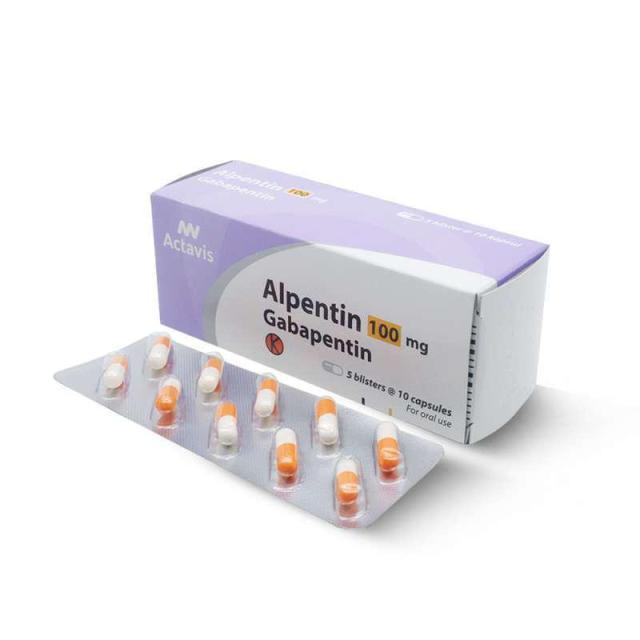drug-name: (258, 275, 406, 348)
